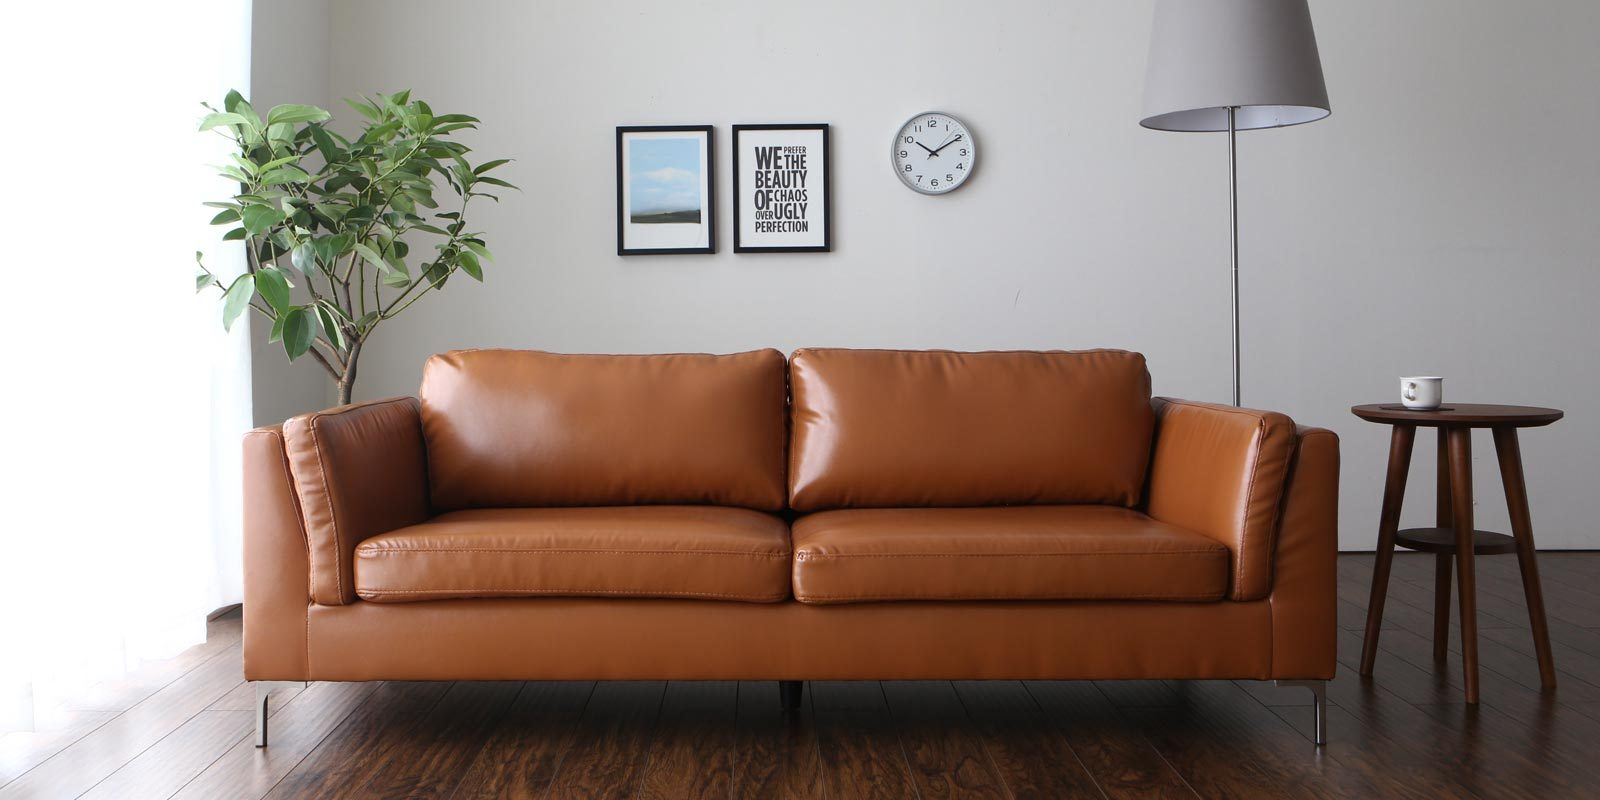Forma Three Seater Sofa in Camel Colour by Zofa: (210, 332, 1371, 726)
